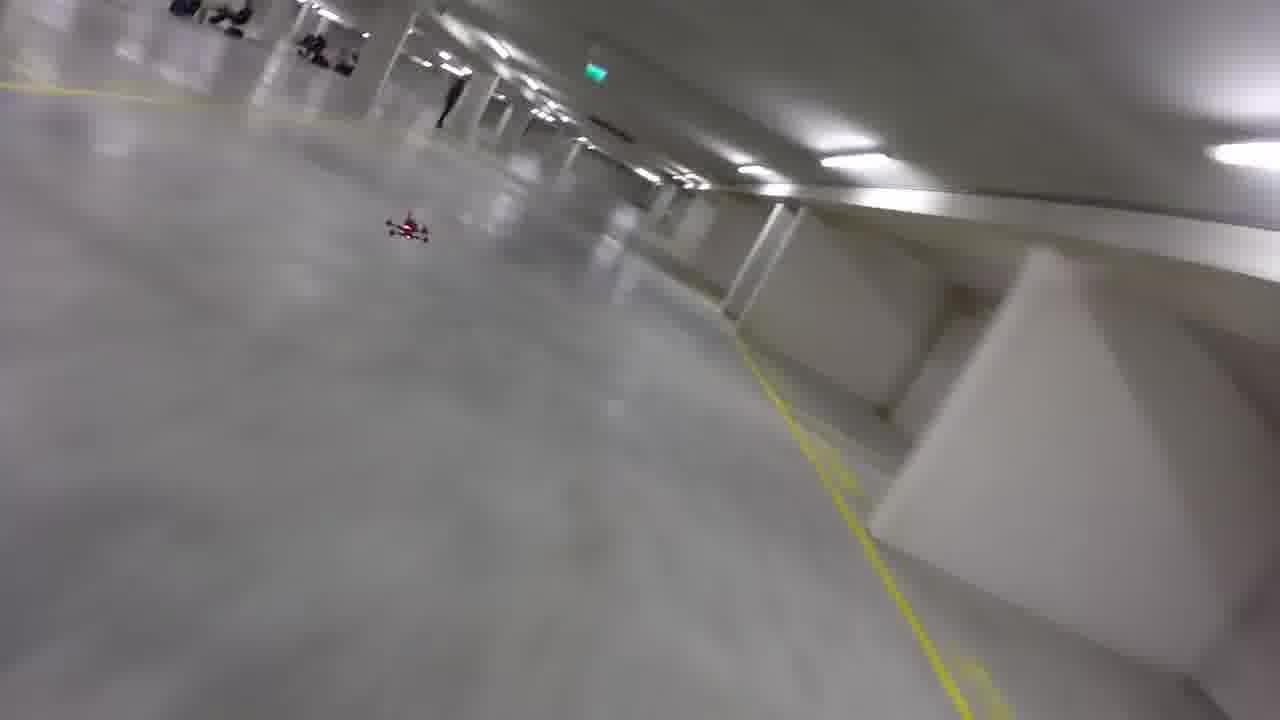drone: (372, 200, 438, 249)
